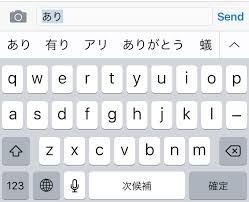keyboard: (1, 65, 247, 199)
